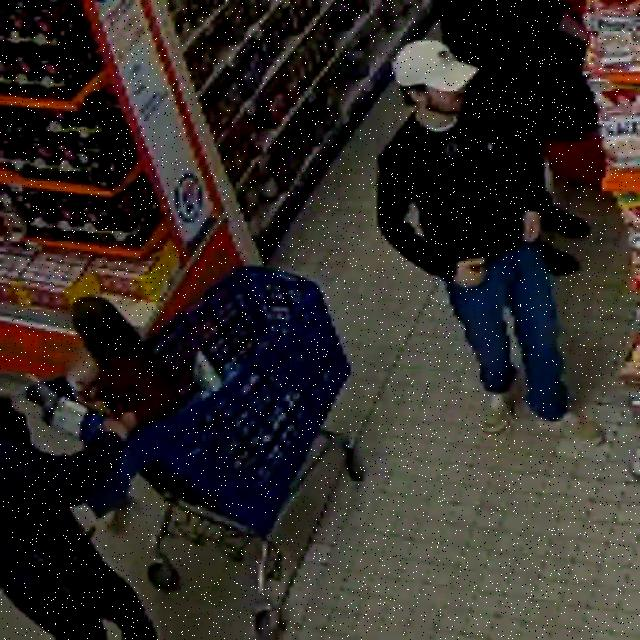hands: (559, 12, 589, 44), (454, 258, 486, 287), (523, 212, 541, 243), (100, 419, 126, 440), (117, 411, 135, 432)
person: (378, 40, 599, 441), (0, 397, 157, 639), (436, 0, 597, 141), (70, 297, 177, 426)
